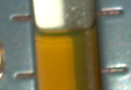border: (94, 6, 125, 19), (97, 65, 129, 76), (11, 70, 39, 82), (8, 13, 34, 23)
liquidlevel: (33, 24, 98, 45)
